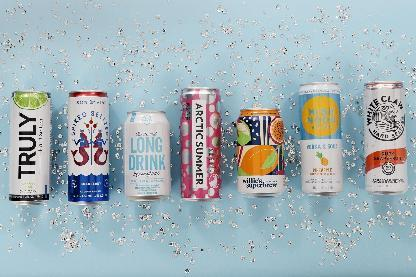Can: (362, 80, 412, 196), (297, 80, 345, 198), (6, 90, 53, 208), (65, 89, 111, 207), (178, 85, 224, 202), (235, 103, 288, 199), (122, 108, 172, 202)
